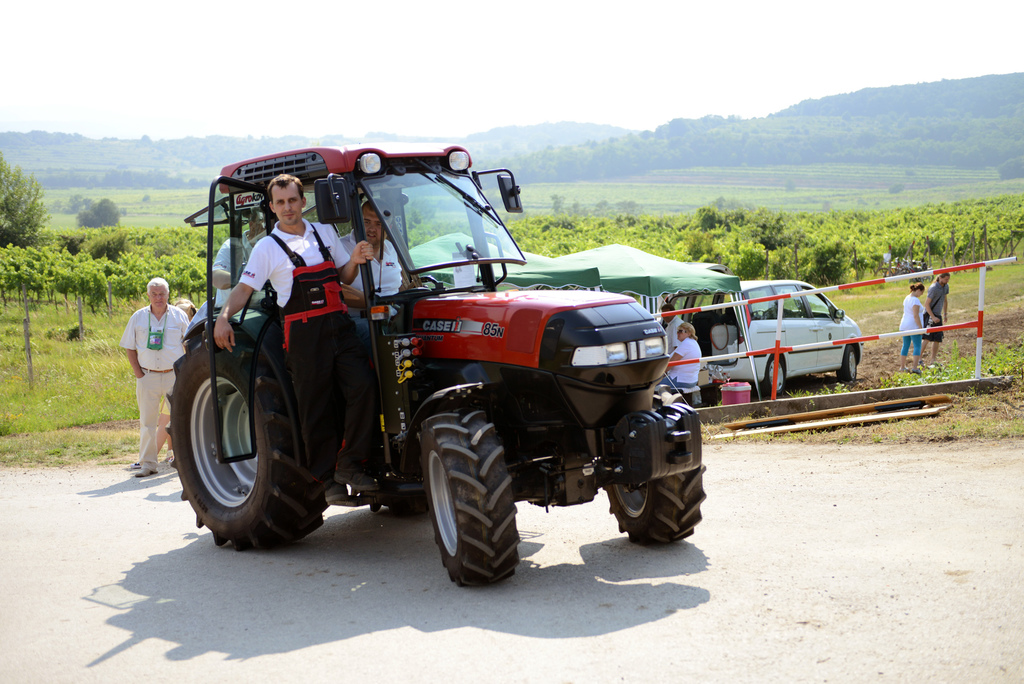Car: (694, 294, 871, 403)
